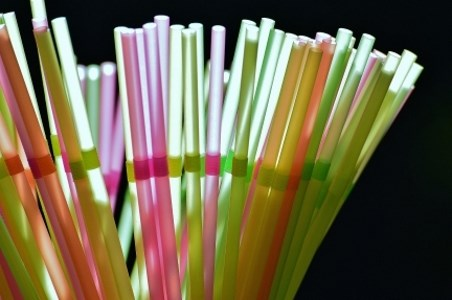Drinking Straw: (203, 22, 227, 300)
